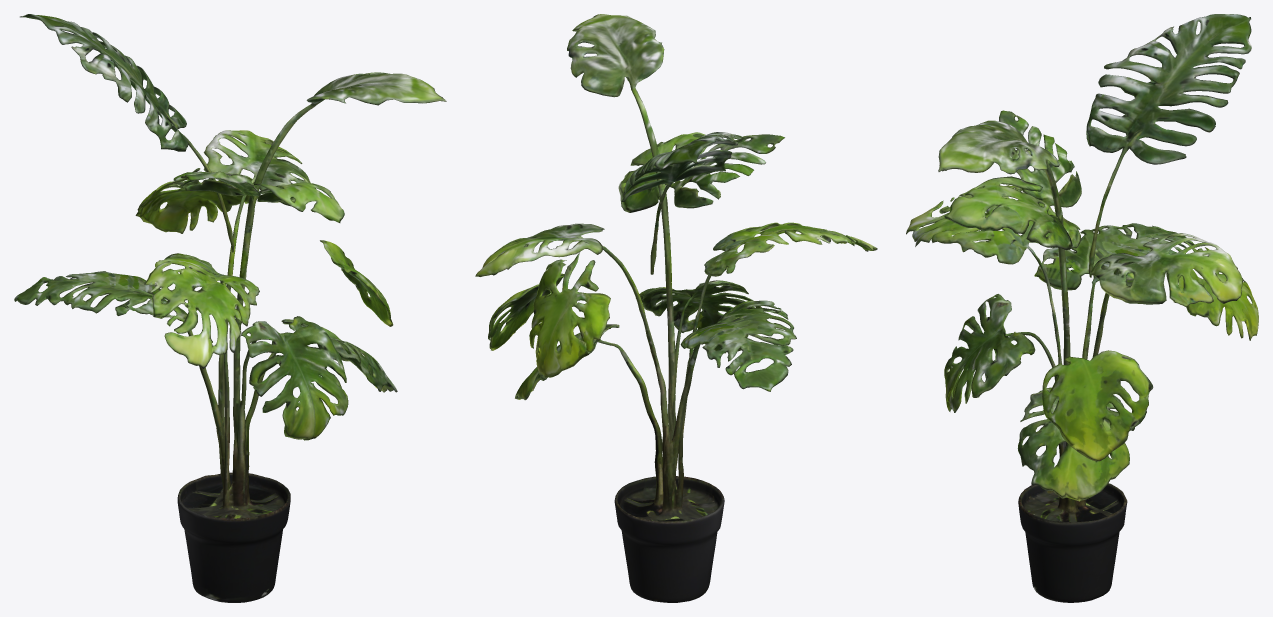
Rendered from monstera_deliciosa.glb.
3 views of the same model, side by side, from view 1: azimuth 30°, elevation 25°; view 2: azimuth 150°, elevation 25°; view 3: azimuth 270°, elevation 25° (orthographic). The views are drawn at different scales.
Size of the model in its own units: 1.28 by 2 by 1.23.
1 material, 1 textured.
